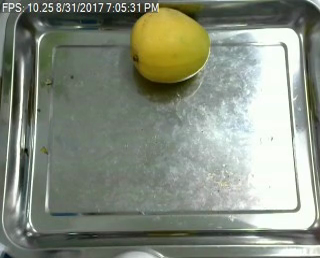Mango: (129, 6, 209, 82)
